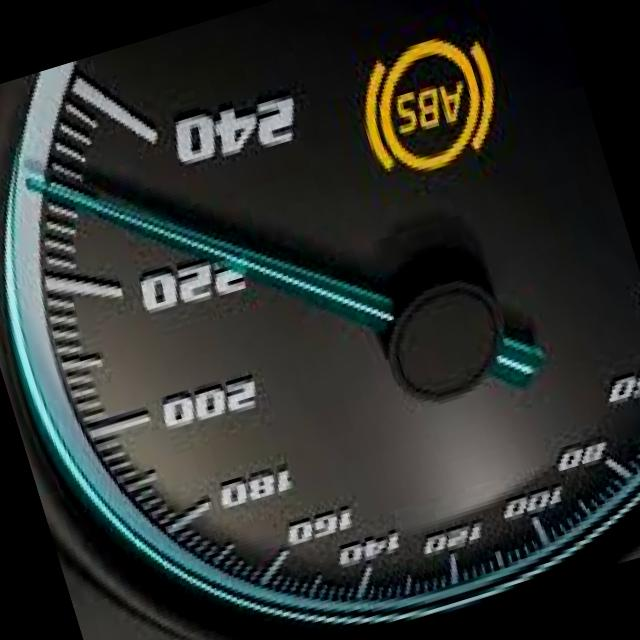kontrolka: (330, 3, 528, 201)
